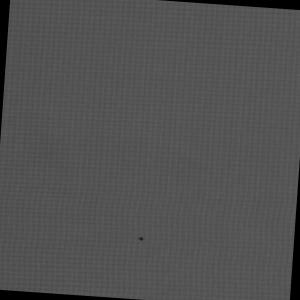Stain: (137, 233, 150, 247)
